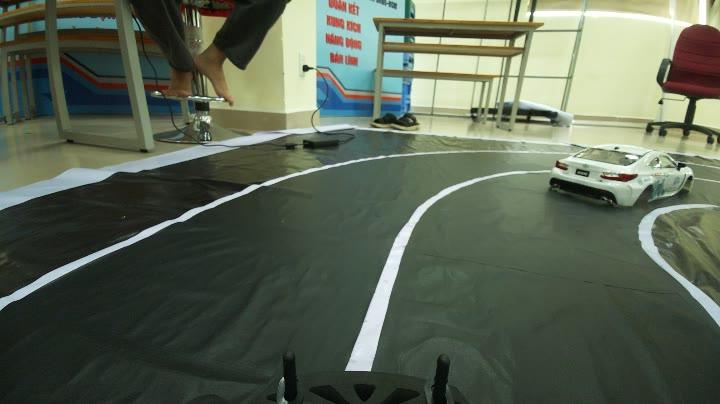car: (550, 142, 698, 210)
